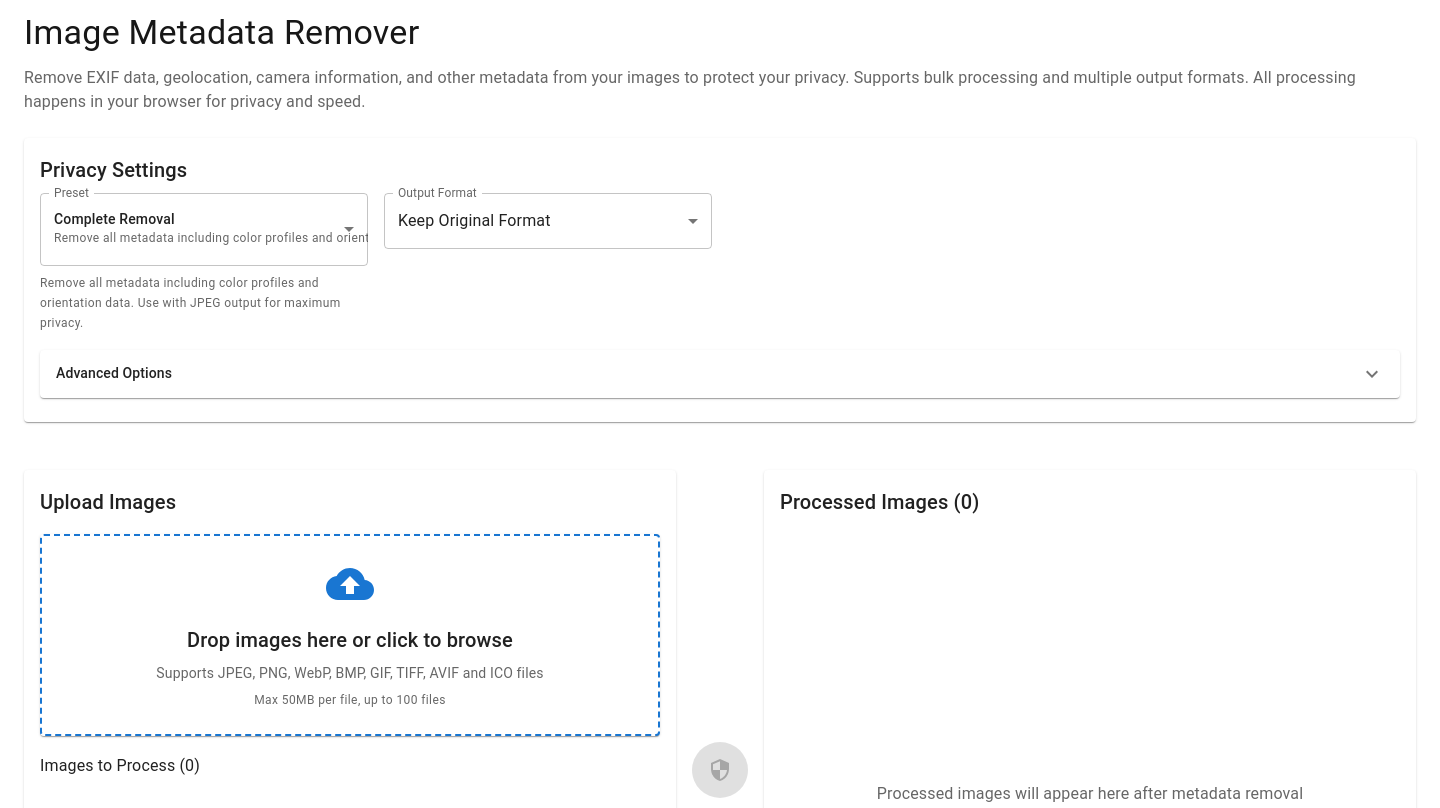
Test case: ImageMetadataRemoverTool › should expand advanced options
Step 1. Click the button "Advanced Options" → (114, 373), box [40,350,1400,398]
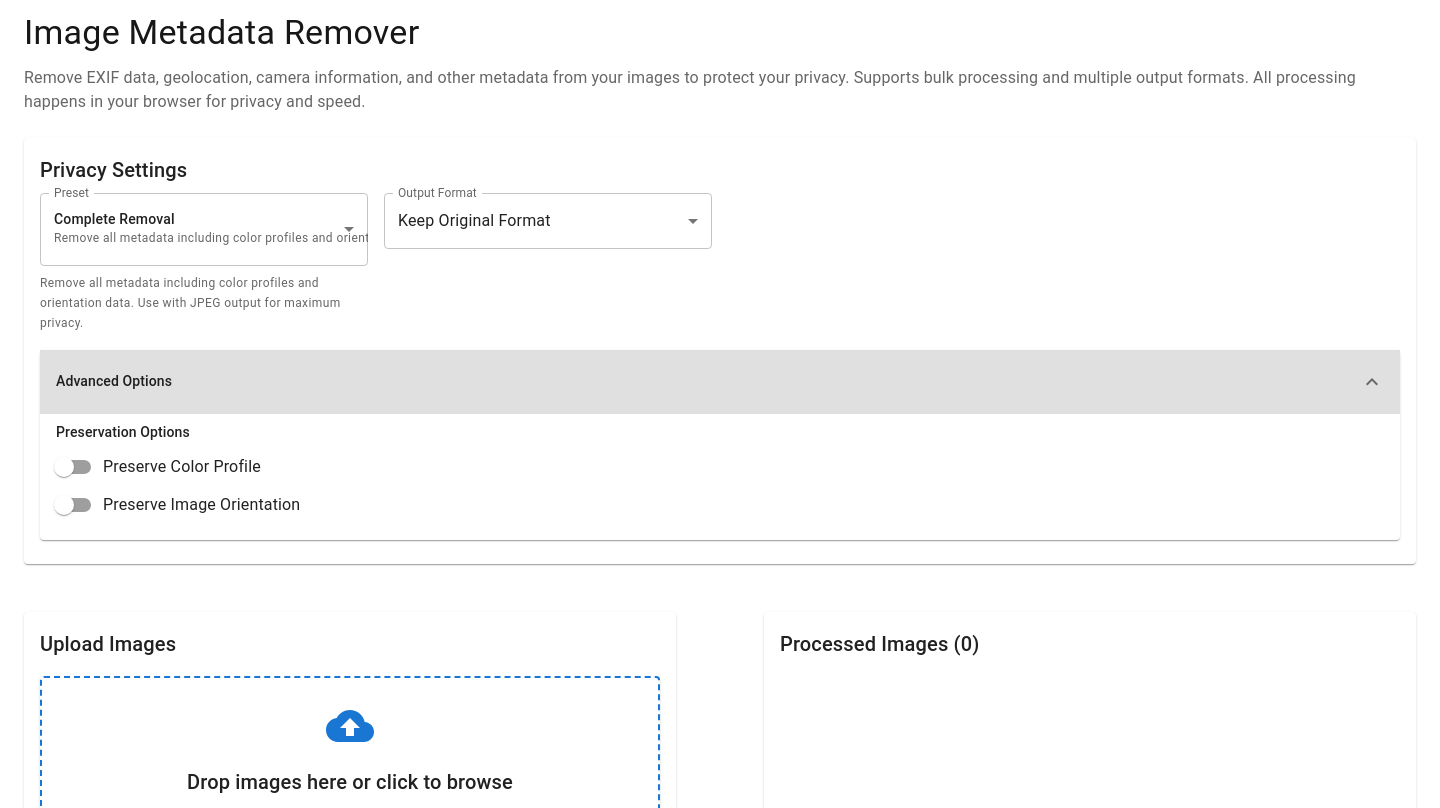
Result: the text "Preserve Color Profile" is shown at [103,455,261,479]
Result: the text "Preserve Image Orientation" is shown at [103,493,300,517]
